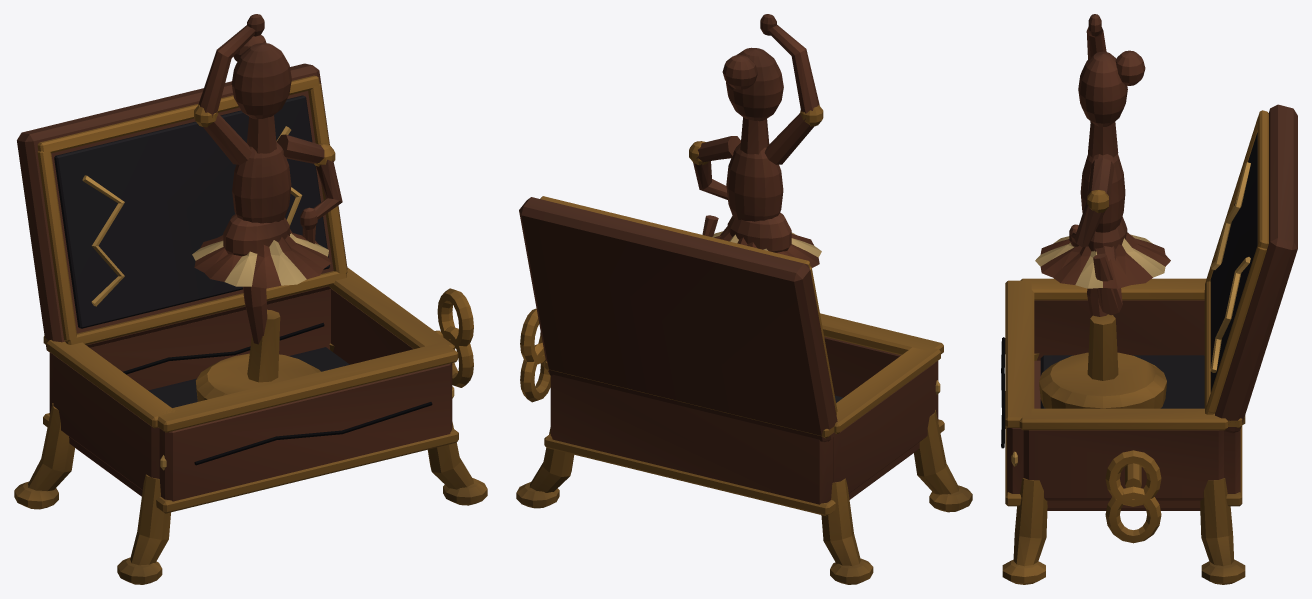
The model's file is music_box_dancer.fbx.
3 renders of one model, left to right at view 1: azimuth 30°, elevation 25°; view 2: azimuth 150°, elevation 25°; view 3: azimuth 270°, elevation 25°, orthographic. The views are drawn at different scales.
Visible parts, largest first — view 1: music_box_dancer; view 2: music_box_dancer; view 3: music_box_dancer.
Boxes of the visible parts, bbox=[...] form: music_box_dancer: bbox=[14, 14, 487, 584]; music_box_dancer: bbox=[516, 14, 972, 584]; music_box_dancer: bbox=[1001, 14, 1297, 584].
Size of the model in its own units: 2.76 by 3.35 by 1.85.
